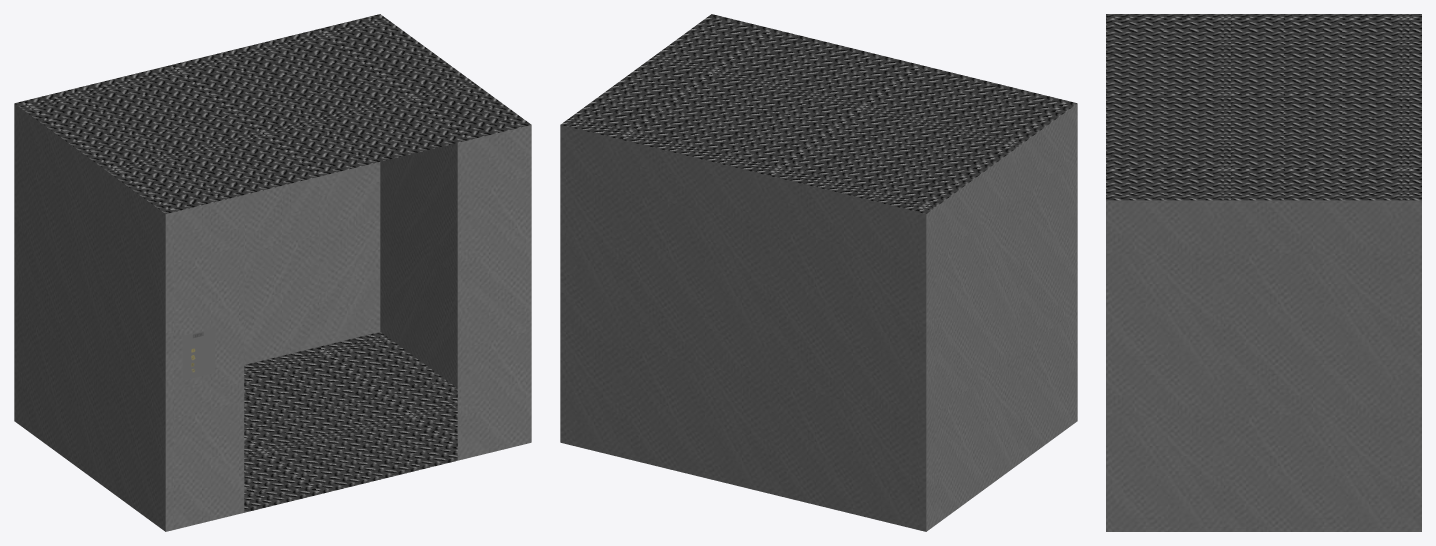
Rendered from otislift.dae.
The picture shows the model from 3 angles, left to right: view 1: azimuth 30°, elevation 25°; view 2: azimuth 150°, elevation 25°; view 3: azimuth 270°, elevation 25°; orthographic projection. The views are drawn at different scales.
Visible parts, largest first — view 1: SketchUp (×4); view 2: SketchUp (×2); view 3: SketchUp (×2).
Part boxes in pixels (box(x1,y1,x2,y2)): SketchUp (×4): box(14, 14, 531, 531); SketchUp (×2): box(560, 14, 1077, 531); SketchUp (×2): box(1106, 14, 1421, 531).
Size of the model in its own units: 97.24 by 69.69 by 80.71.
3 materials, 3 textured.
